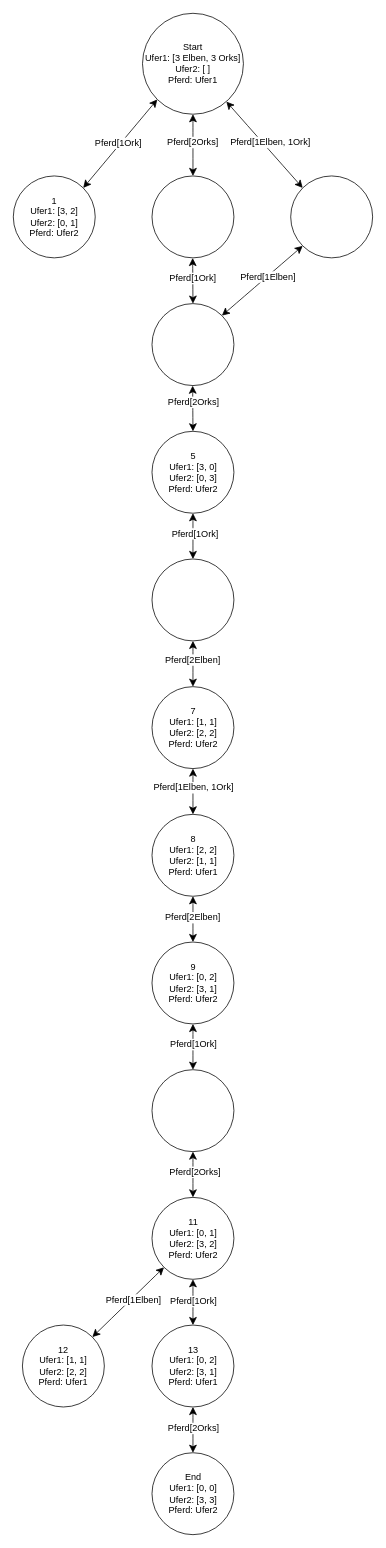
Image size: 386x1548. Some labels were removed from this diagram. Here are the shapes that lost their labels. From the top down, the centre of each, then its label:
At pixel 192 216: "2 Ufer1: [3, 1] Ufer2: [0, 2] Pferd: Ufer2".
At pixel 331 216: "3 Ufer1: [2, 2] Ufer2: [1, 1] Pferd: Ufer2".
At pixel 192 344: "4 Ufer1: [3, 2] Ufer2: [0, 1] Pferd: Ufer1".
At pixel 192 599: "6 Ufer1: [3, 1] Ufer2: [0, 2] Pferd: Ufer1".
At pixel 192 1110: "10 Ufer1: [0, 3] Ufer2: [3, 0] Pferd: Ufer1".
